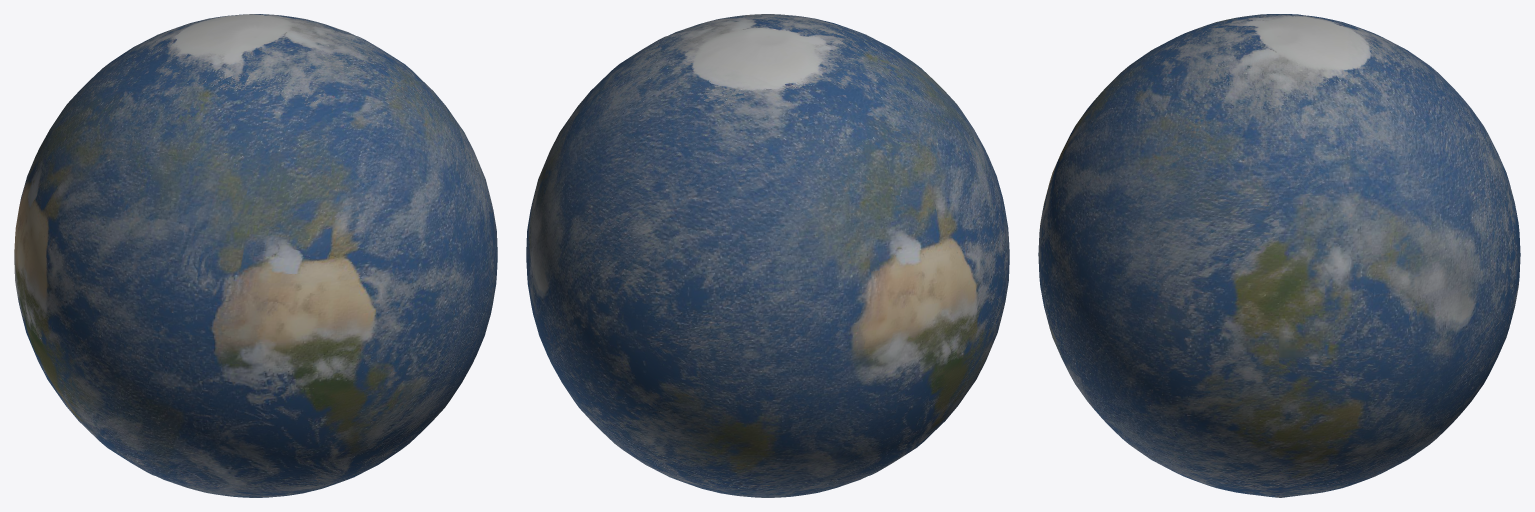
File: earth.glb
The picture shows the model from 3 angles, left to right: view 1: azimuth 30°, elevation 25°; view 2: azimuth 150°, elevation 25°; view 3: azimuth 270°, elevation 25°; orthographic projection.
Parts seen in each view (by area): view 1: Photoreal Smooth Earth; view 2: Photoreal Smooth Earth; view 3: Photoreal Smooth Earth.
Boxes of the visible parts, x1,y1,x2,y2 form: Photoreal Smooth Earth: [14, 14, 497, 497]; Photoreal Smooth Earth: [526, 14, 1009, 497]; Photoreal Smooth Earth: [1038, 14, 1520, 497].
Size of the model in its own units: 0.998 by 0.998 by 0.998.
1 material, 1 textured.
